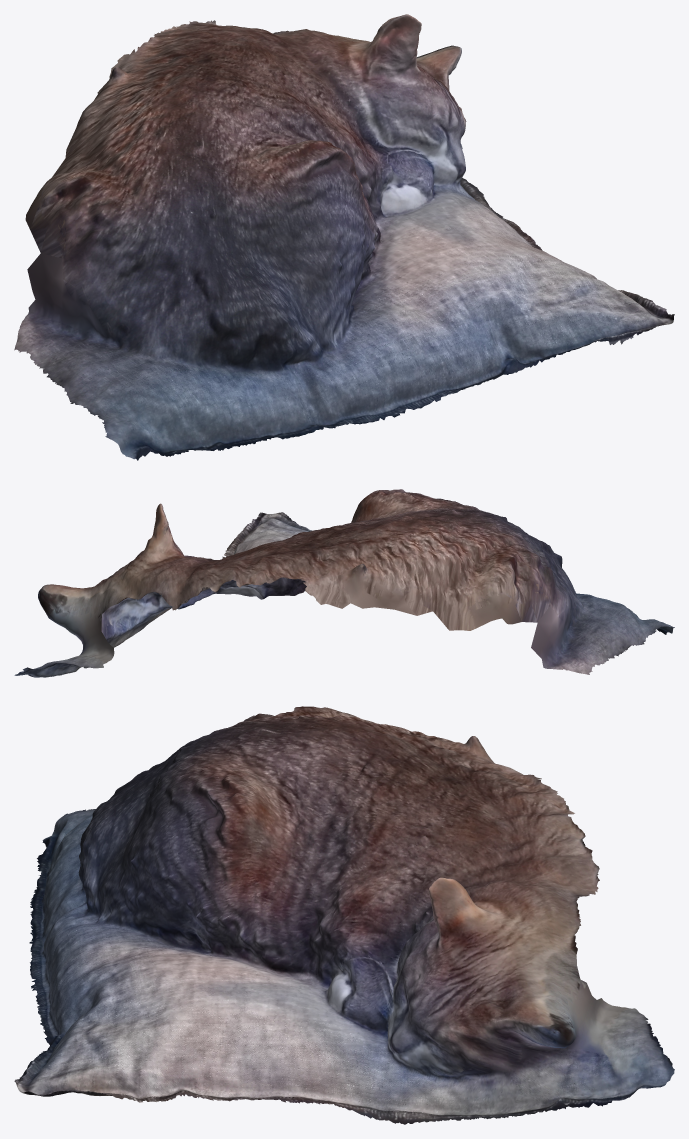
Rendered from cat.glb.
3 renders of one model, top to bottom at view 1: azimuth 30°, elevation 25°; view 2: azimuth 150°, elevation 25°; view 3: azimuth 270°, elevation 25°, orthographic. The views are drawn at different scales.
Visible parts, largest first — view 1: Model; view 2: Model; view 3: Model.
Boxes of the visible parts, left/top/right/bottom form: Model: left=14, top=14, right=674, bottom=460; Model: left=14, top=489, right=674, bottom=677; Model: left=14, top=706, right=674, bottom=1124.
Bounding box in the file's own units: 3.08 × 1.11 × 2.9.
Materials: 1 (1 with a texture image).
